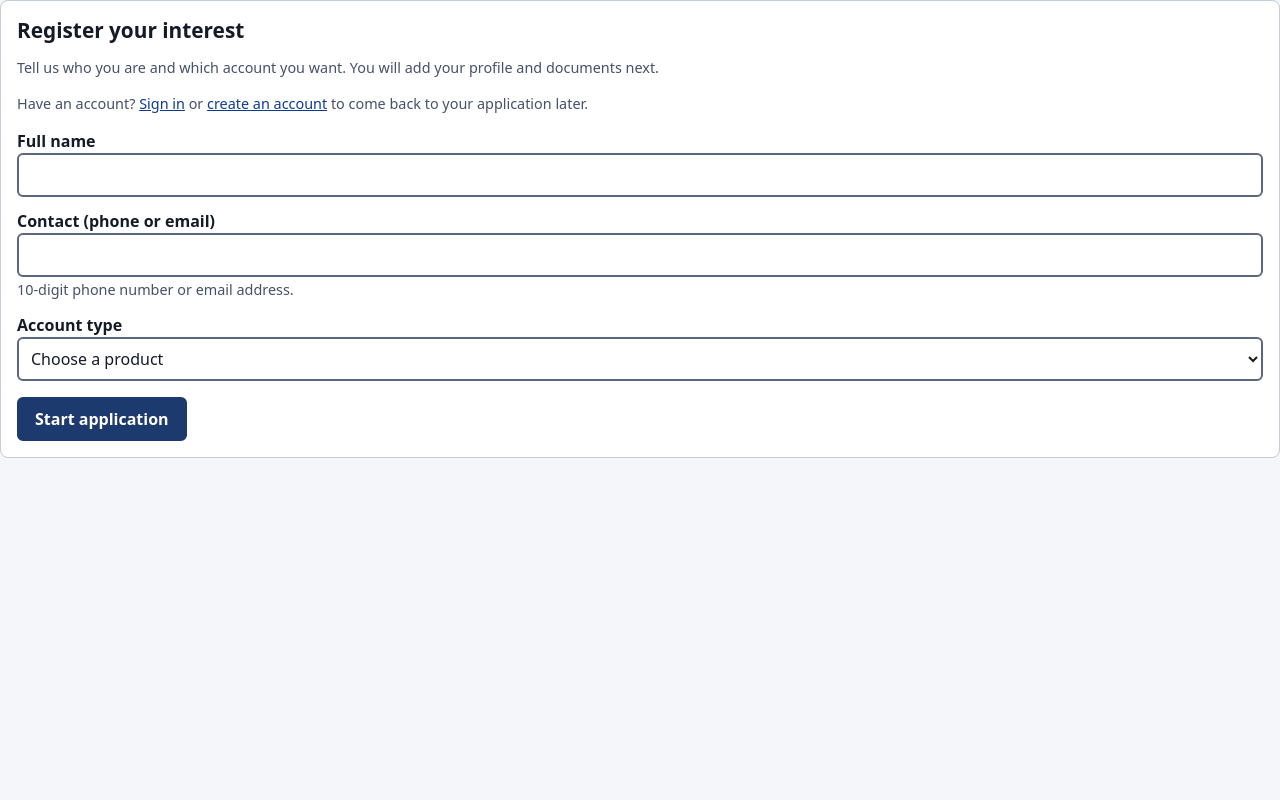
it: LeadFormPage › AC-01: surfaces server-side field errors from a 422 response
The image size is (1280, 800).
Step 1. Type "Meera Nair" into the field labelled "Full name" → (640, 175), box [17,153,1263,197]
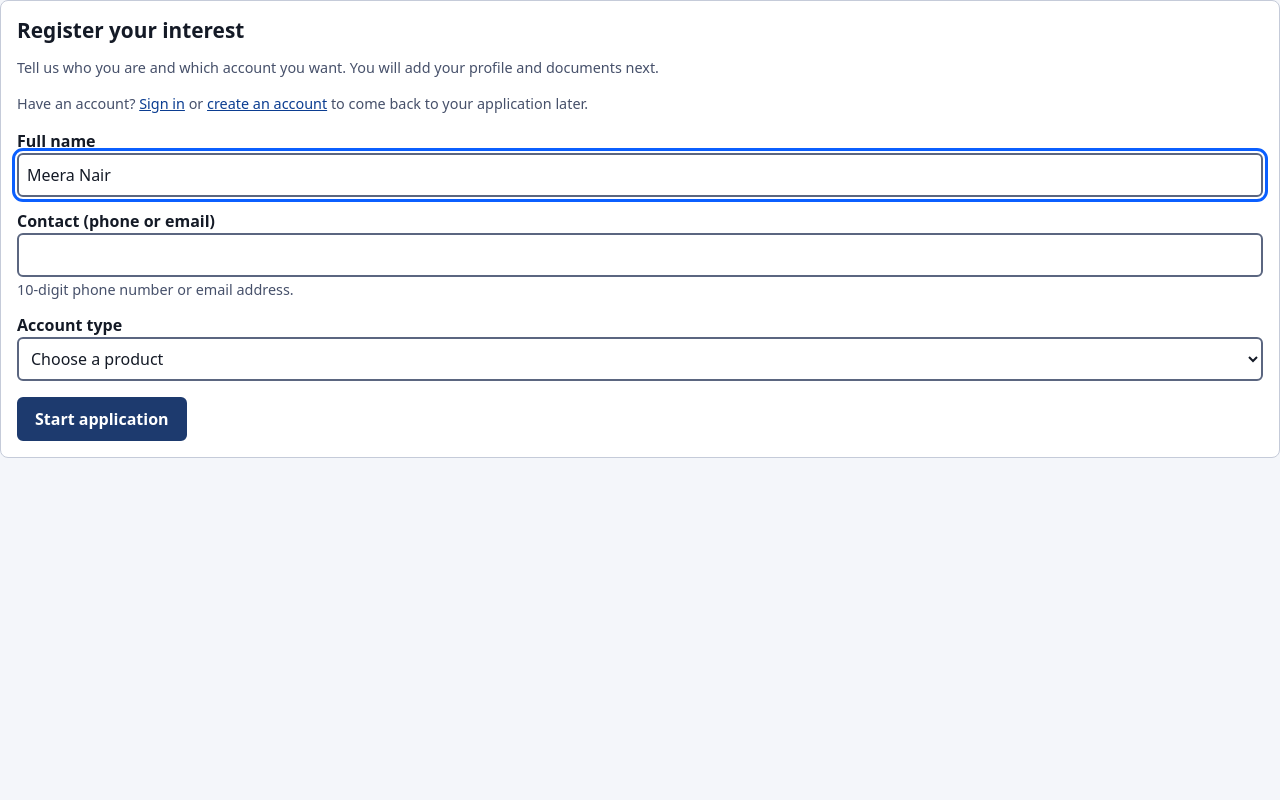
Step 2. Type "9876543221" into the field labelled "Contact (phone or email)" → (640, 255), box [17,233,1263,277]
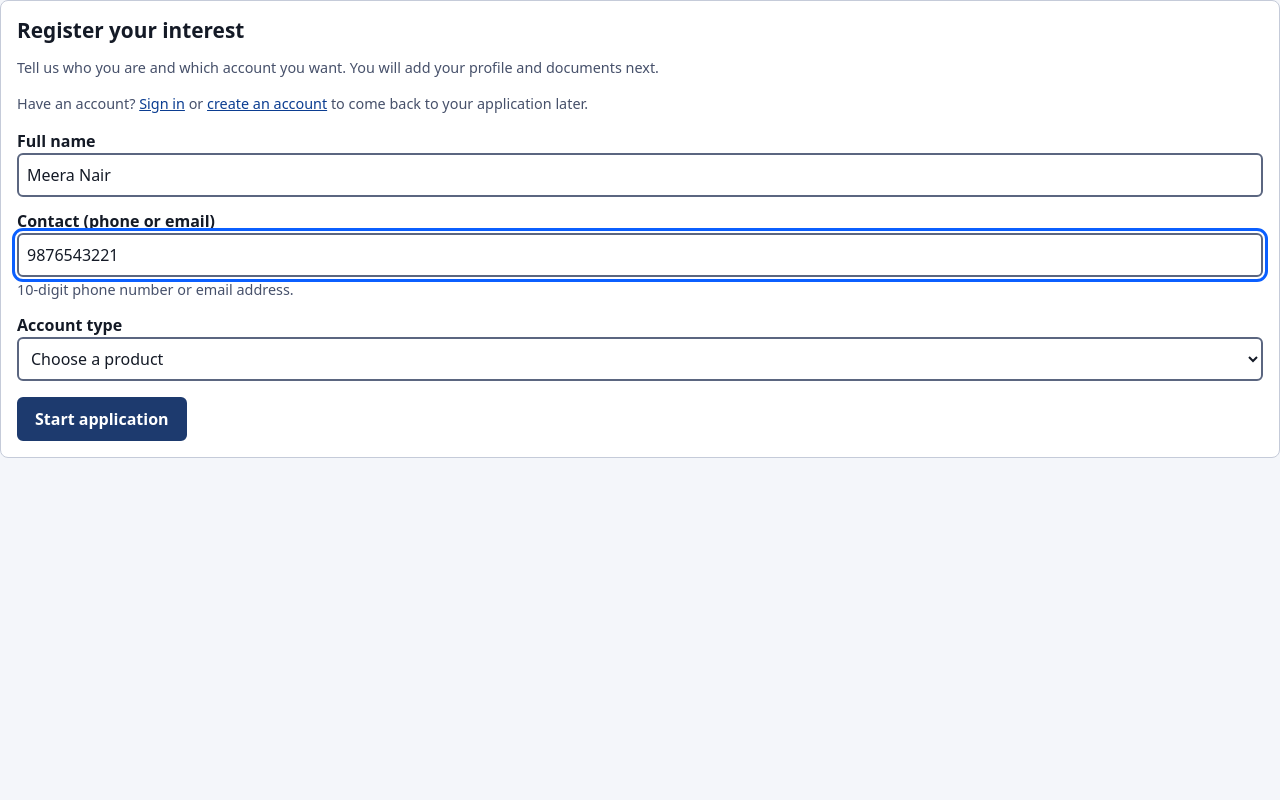
Step 3. Select "Savings" in the dropdown labelled "Account type" → (640, 359), box [17,337,1263,381]
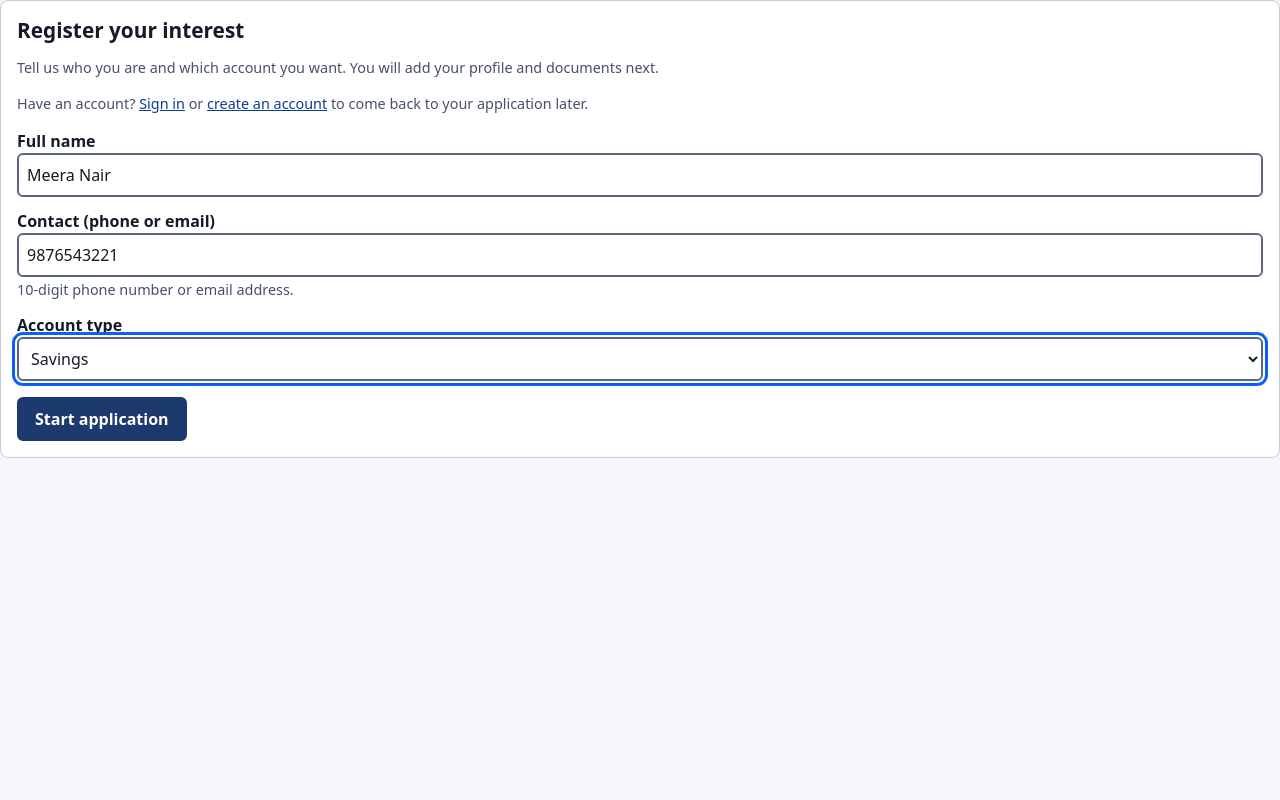
Step 4. Click the button "Start application" → (102, 419), box [17,397,187,441]
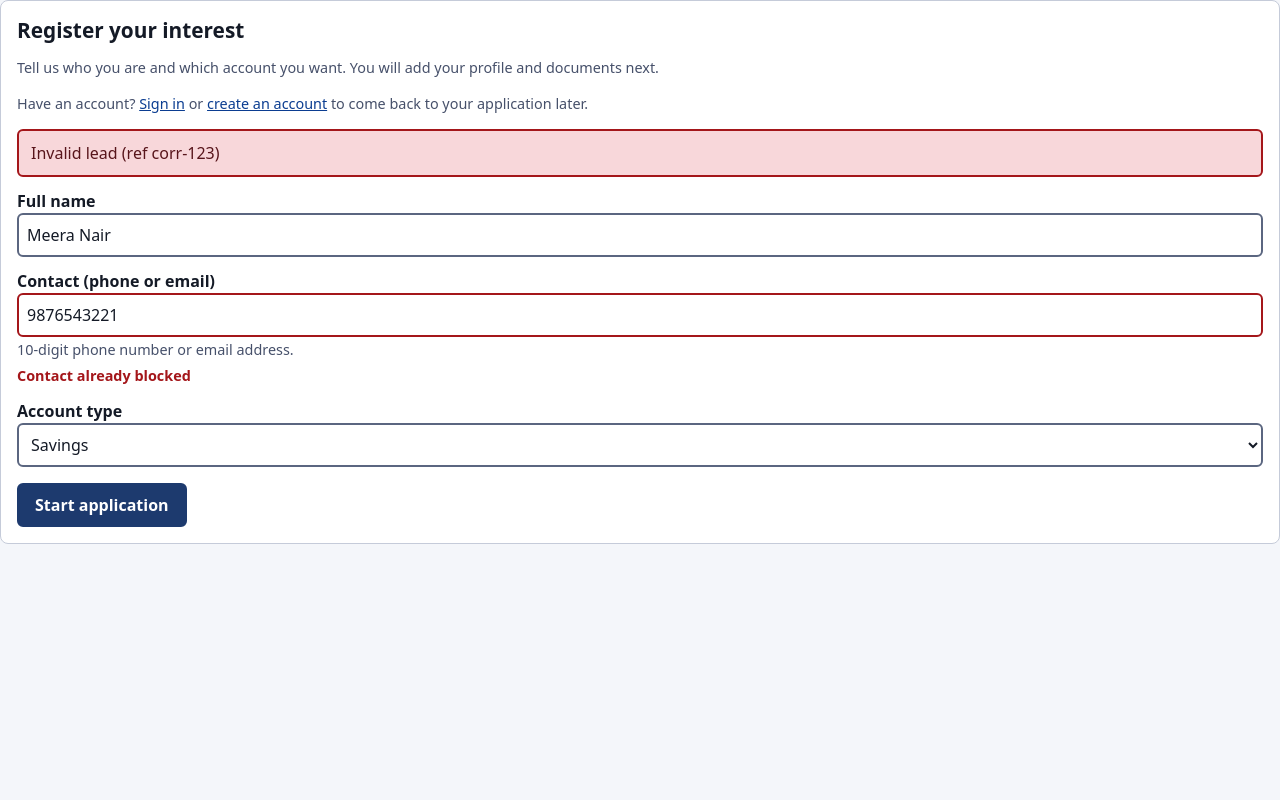
Now the text "Contact already blocked" is shown, box [17,366,191,385]
Now the message shows "Invalid lead", box [31,142,220,164]
